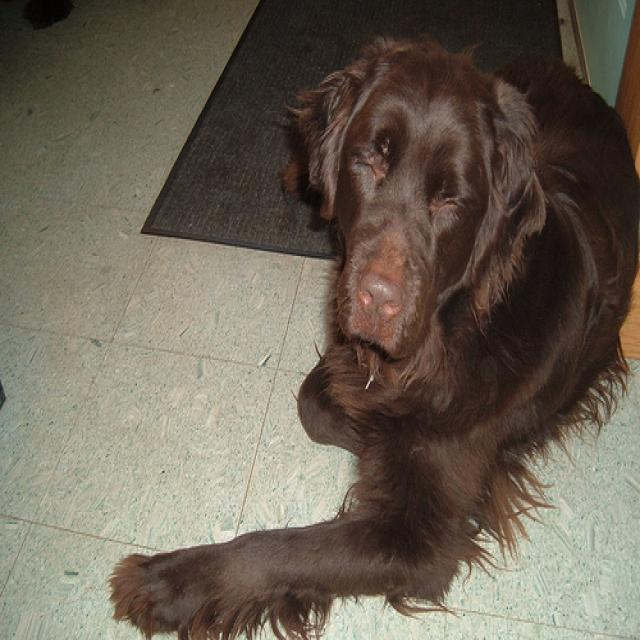dog-newfoundland: (100, 22, 637, 637)
